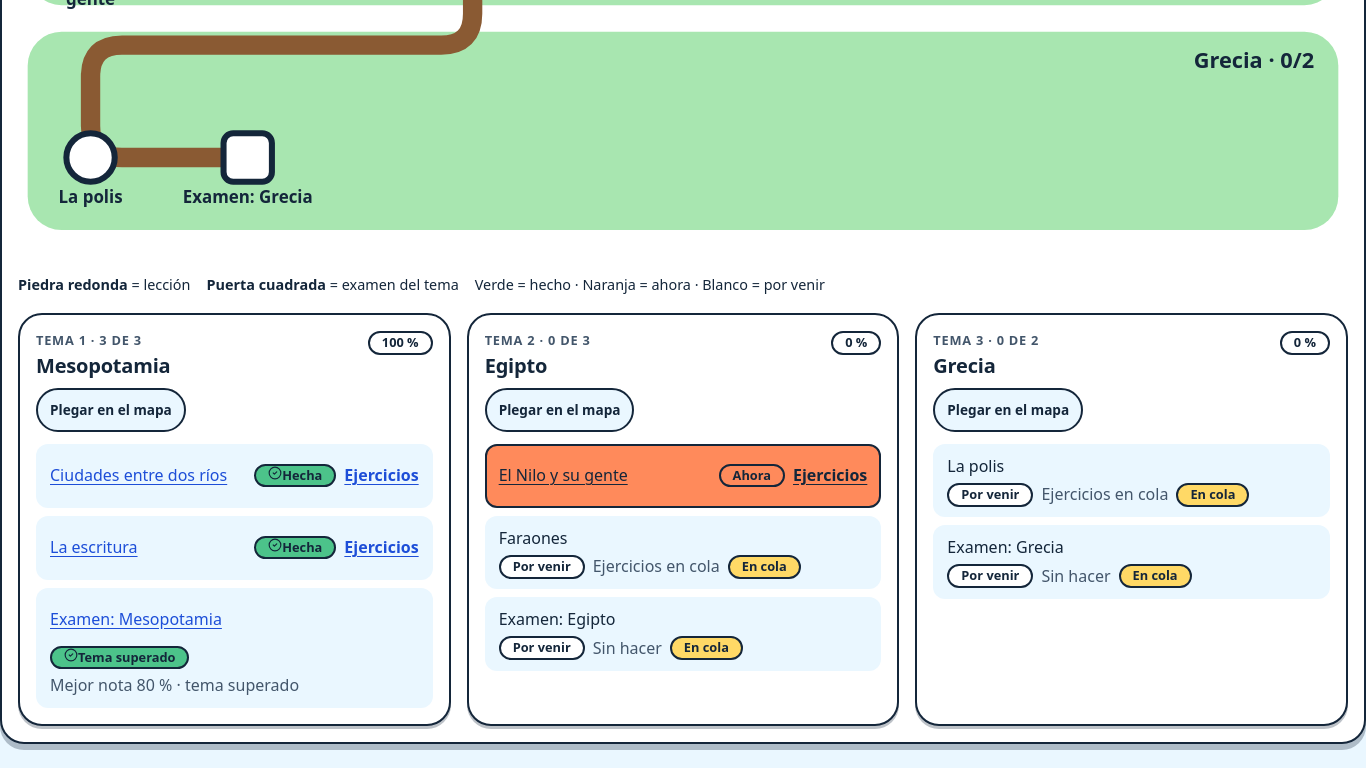
Test: CourseMap › folds a topic and unfolds it again, keeping its stops in the list
(page scrolled)
Click the button with test id "map-fold-t1" at (111, 410), box [36, 388, 186, 432]
(page scrolled)
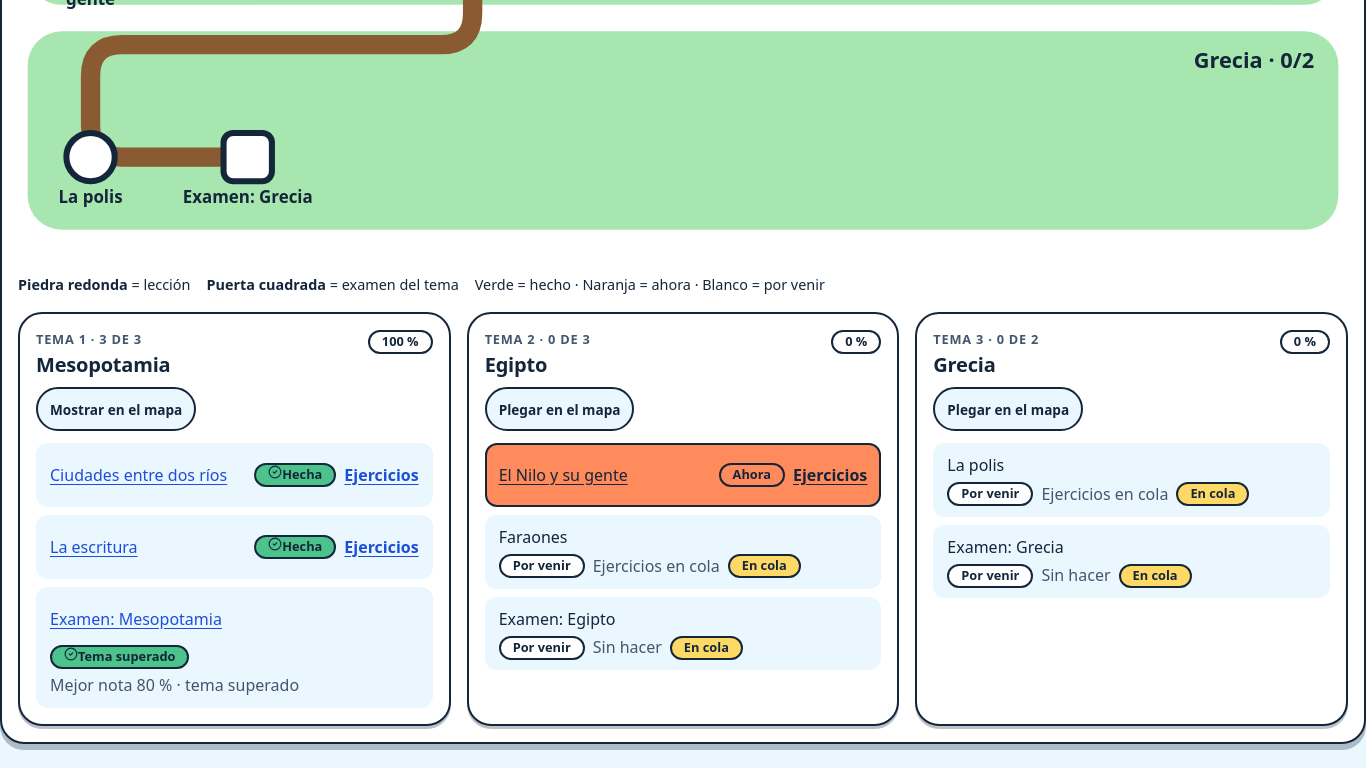
Expected: the button with test id "map-fold-t1" is collapsed
Click the button with test id "map-fold-t1" at (116, 409), box [36, 387, 196, 431]
(page scrolled)
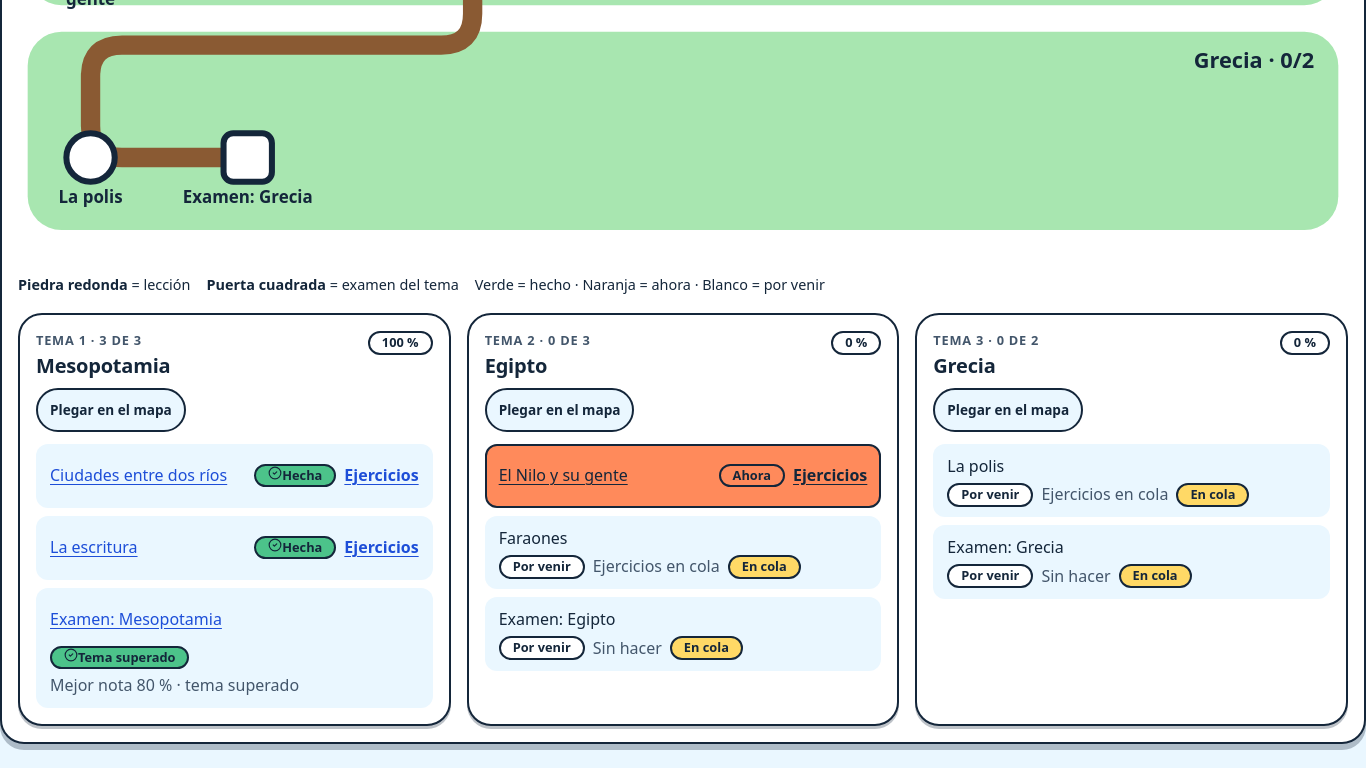
Expected: the button with test id "map-fold-t1" is expanded, [36, 388, 186, 432]
